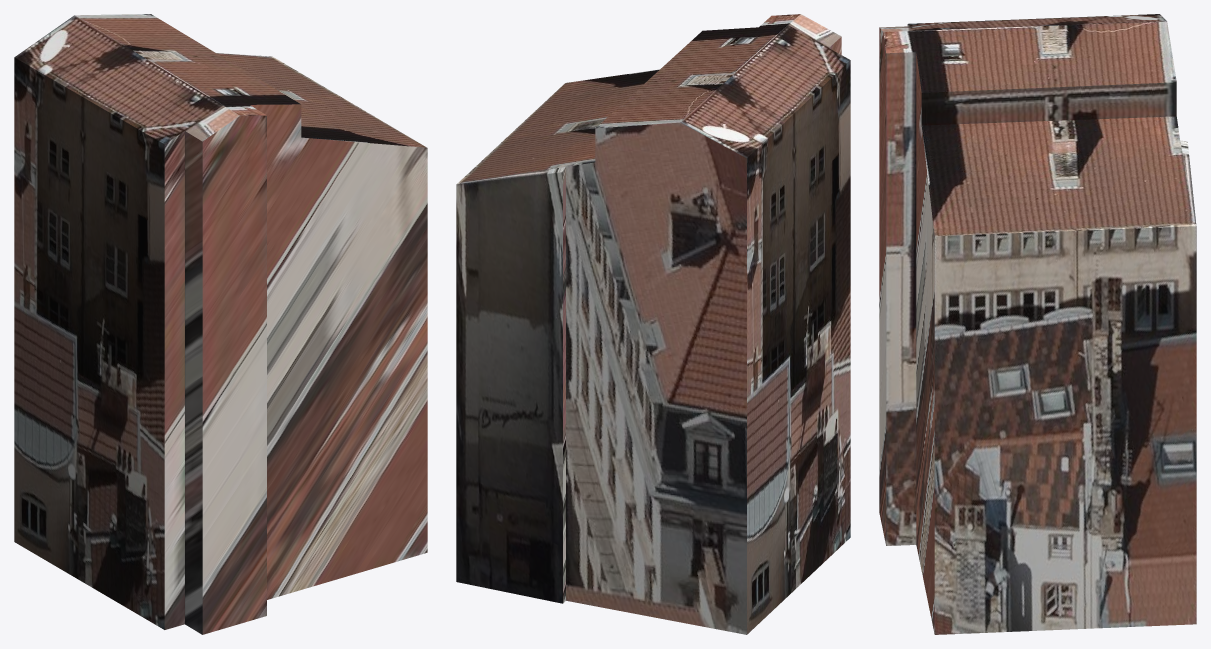
The picture shows the model from 3 angles, left to right: view 1: azimuth 30°, elevation 25°; view 2: azimuth 150°, elevation 25°; view 3: azimuth 270°, elevation 25°; orthographic projection.
Parts seen in each view (by area): view 1: Z_UP; view 2: Z_UP; view 3: Z_UP.
Part boxes in pixels (x1=…): Z_UP: x1=14, y1=14, x2=427, y2=634; Z_UP: x1=456, y1=14, x2=850, y2=634; Z_UP: x1=879, y1=14, x2=1196, y2=634.
Bounding box in the file's own units: 13.67 × 22.21 × 12.75.
Materials: 2 (1 with a texture image).
